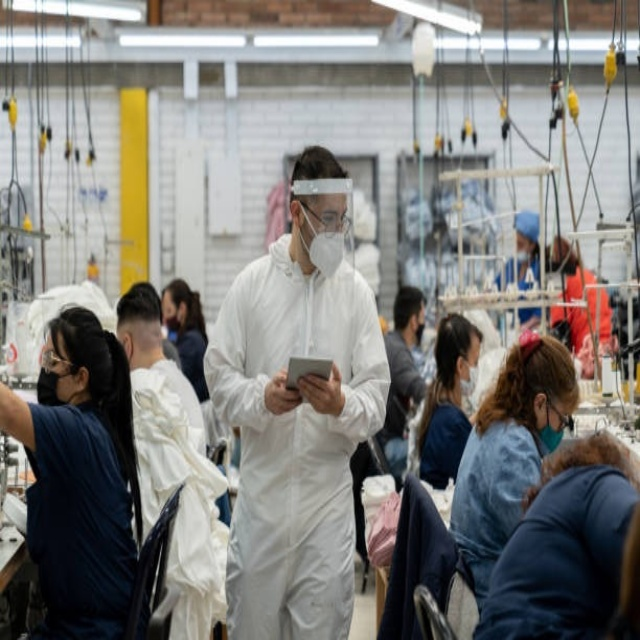Gafas: (304, 202, 352, 240), (39, 347, 75, 370)
Mascara: (300, 207, 347, 279), (538, 403, 565, 454), (36, 366, 63, 406), (459, 359, 476, 401), (551, 247, 573, 273), (515, 245, 533, 266), (165, 316, 180, 334), (415, 321, 425, 343)
Sin_guantes: (297, 362, 343, 417), (264, 367, 304, 417)
